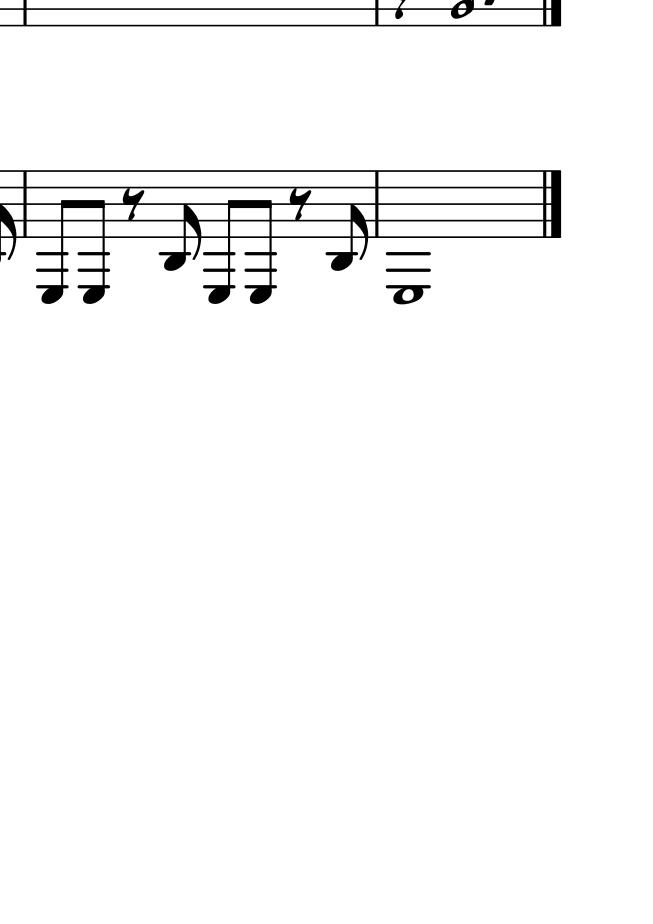1_-7: (388, 169, 428, 306)
8_-3: (161, 169, 204, 273), (330, 165, 368, 275)
8_-7: (201, 167, 245, 305), (245, 169, 278, 305), (40, 169, 70, 305), (81, 168, 110, 303)
Final_barline: (540, 169, 565, 237)
Rests8: (288, 187, 313, 221), (121, 189, 146, 220)
Single_barline: (369, 168, 384, 238), (17, 172, 33, 237)
